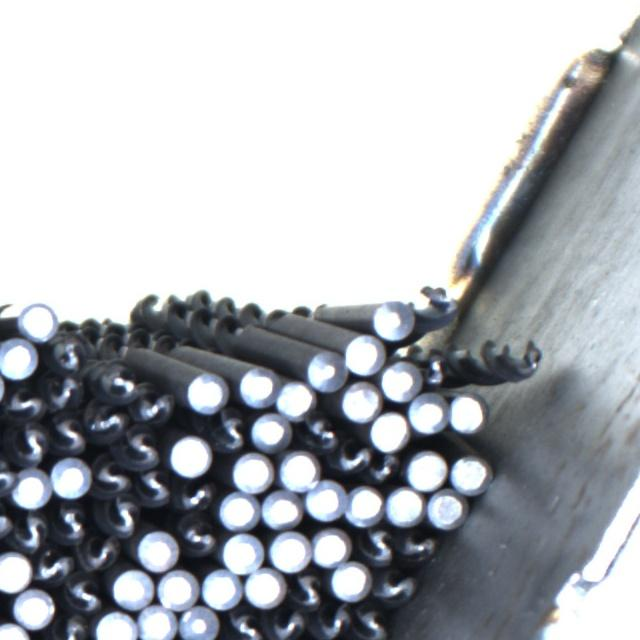tool: (340, 332, 384, 375), (231, 451, 274, 494), (137, 528, 179, 572), (219, 532, 264, 573), (277, 448, 320, 490), (303, 348, 346, 390), (303, 480, 345, 522), (169, 434, 211, 476), (381, 359, 422, 402), (236, 366, 277, 409), (405, 450, 447, 491), (268, 531, 310, 572), (448, 453, 490, 494), (112, 567, 154, 608), (258, 488, 301, 528), (274, 378, 315, 419), (157, 568, 198, 609), (49, 458, 90, 499), (185, 372, 226, 413), (367, 409, 407, 451), (200, 568, 240, 609), (243, 567, 283, 608), (11, 587, 52, 627), (16, 302, 58, 341), (370, 299, 412, 338), (216, 490, 258, 529), (384, 485, 424, 525), (11, 469, 50, 510), (310, 527, 349, 567), (249, 411, 289, 450), (447, 391, 485, 432), (344, 486, 383, 525), (329, 561, 368, 600), (407, 395, 447, 433), (426, 488, 464, 528), (340, 382, 378, 422), (0, 338, 37, 378), (136, 604, 176, 640), (177, 605, 217, 640), (94, 608, 136, 640), (0, 552, 30, 591)
tool_b: (462, 340, 543, 383), (414, 282, 460, 335), (97, 498, 145, 538), (60, 571, 105, 613), (76, 536, 123, 575), (370, 568, 417, 606), (48, 414, 90, 456), (357, 526, 396, 569), (396, 527, 440, 564), (311, 602, 353, 640), (11, 421, 48, 464), (350, 603, 393, 640), (91, 457, 130, 496), (133, 467, 172, 506), (51, 335, 89, 375), (135, 389, 176, 425), (293, 572, 329, 612), (300, 416, 340, 452), (84, 404, 126, 438), (54, 507, 90, 546), (180, 518, 215, 558), (420, 351, 455, 391), (6, 382, 43, 419), (33, 548, 72, 583), (98, 363, 138, 397), (46, 376, 82, 413), (126, 430, 160, 469), (214, 414, 249, 451), (16, 510, 47, 551), (177, 477, 212, 513), (368, 448, 403, 484), (333, 441, 371, 474), (266, 612, 305, 640), (54, 613, 90, 640), (232, 611, 263, 640), (0, 455, 15, 494)
